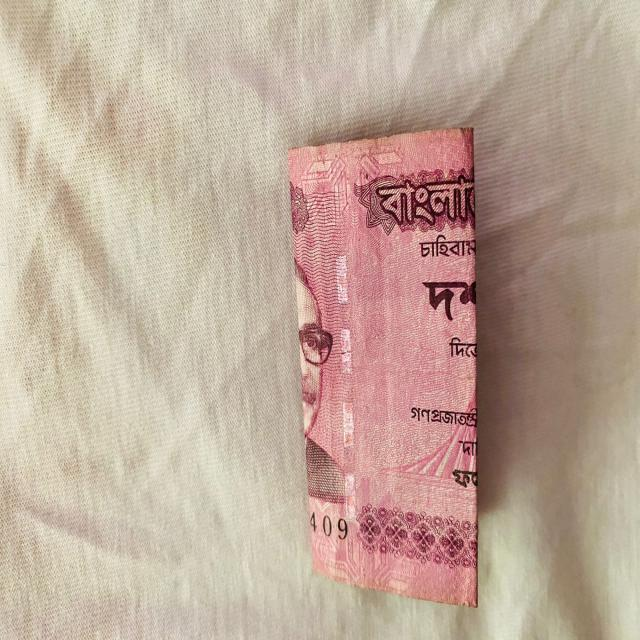Taka: (285, 125, 498, 611)
